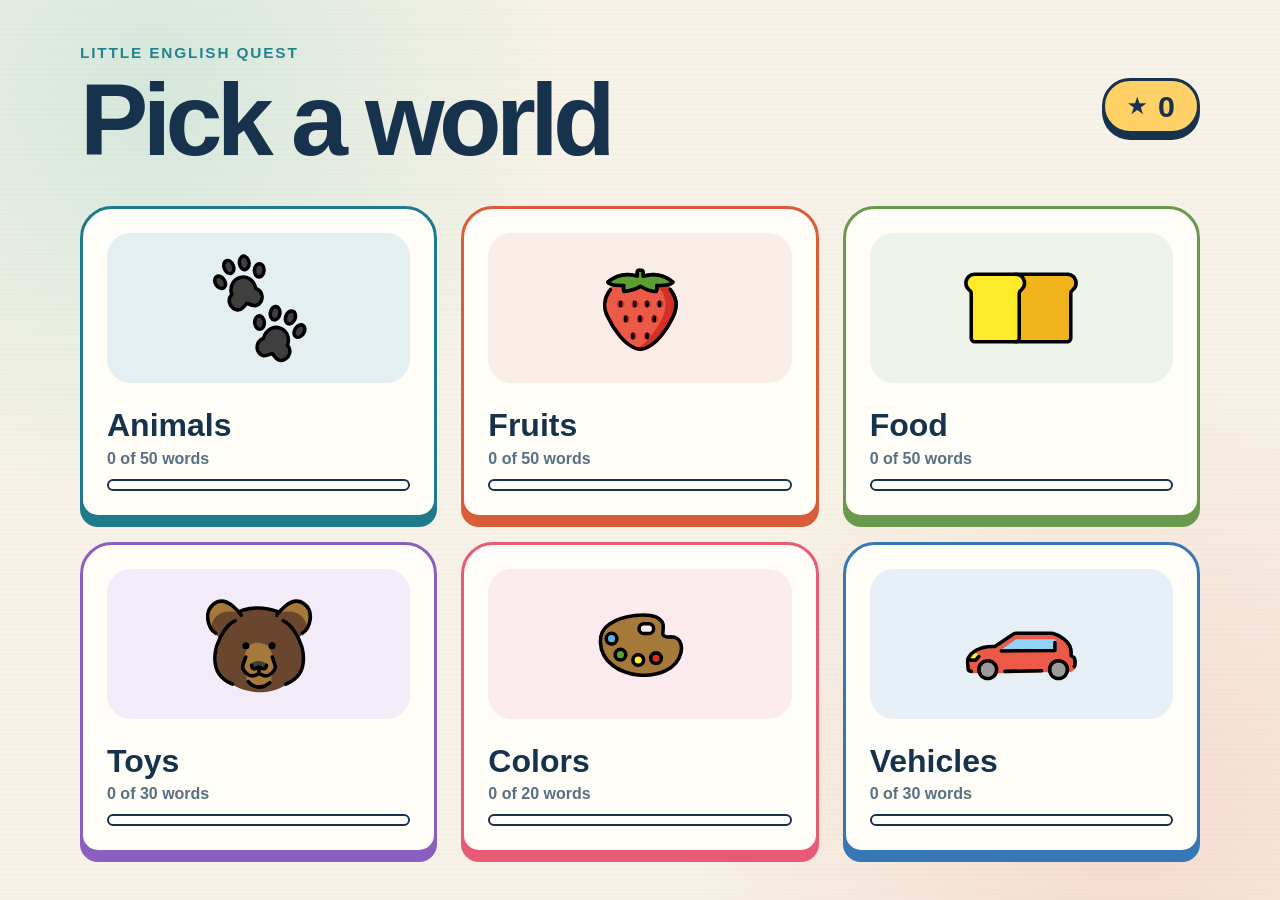
Test case: App flow › wakes the correct picture with a small magic reaction
Click the button "Animals 0 of 50 words": {"x": 259, "y": 362} [80,206,437,518]
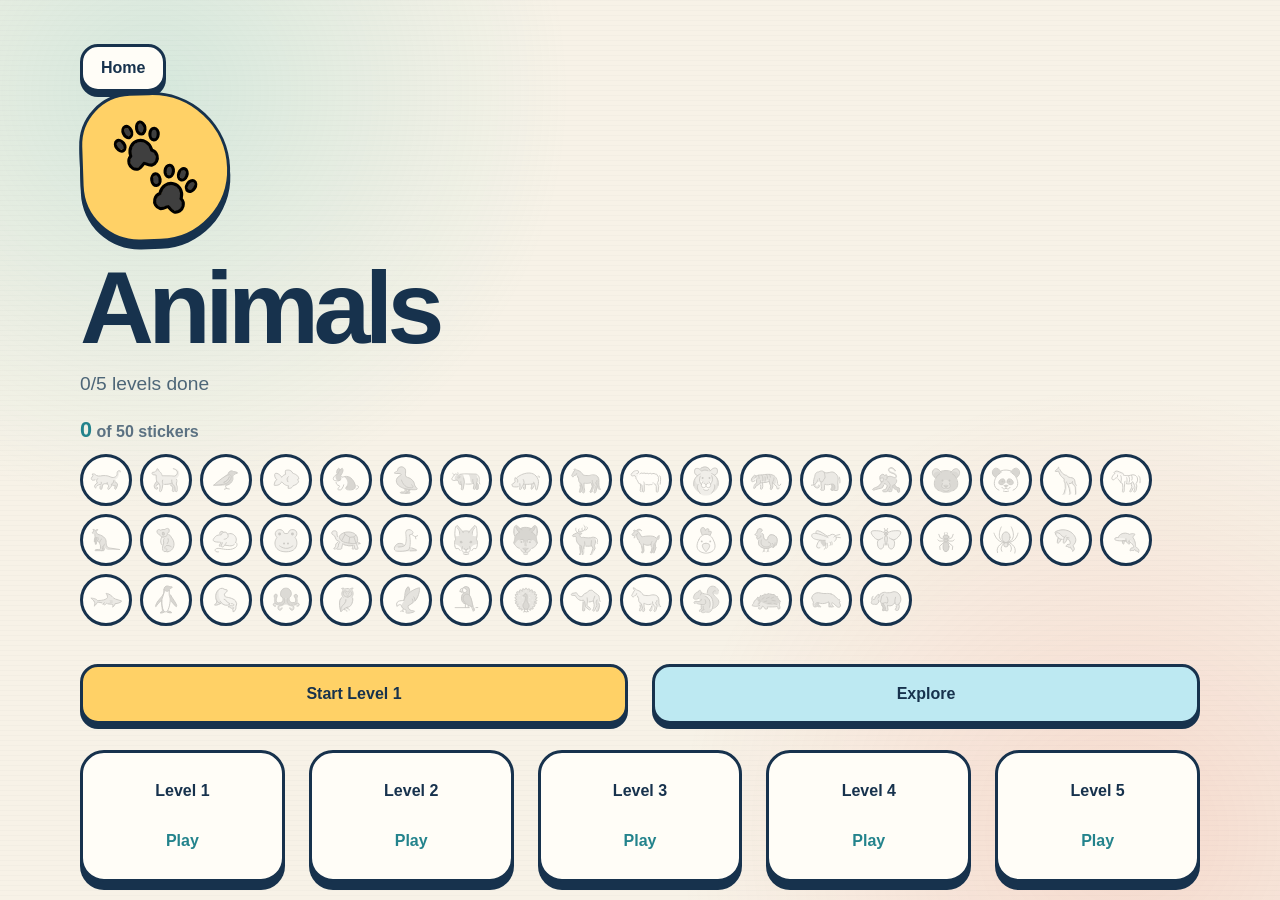
Click the button "Start Level 1": {"x": 354, "y": 694} [80,664,628,724]
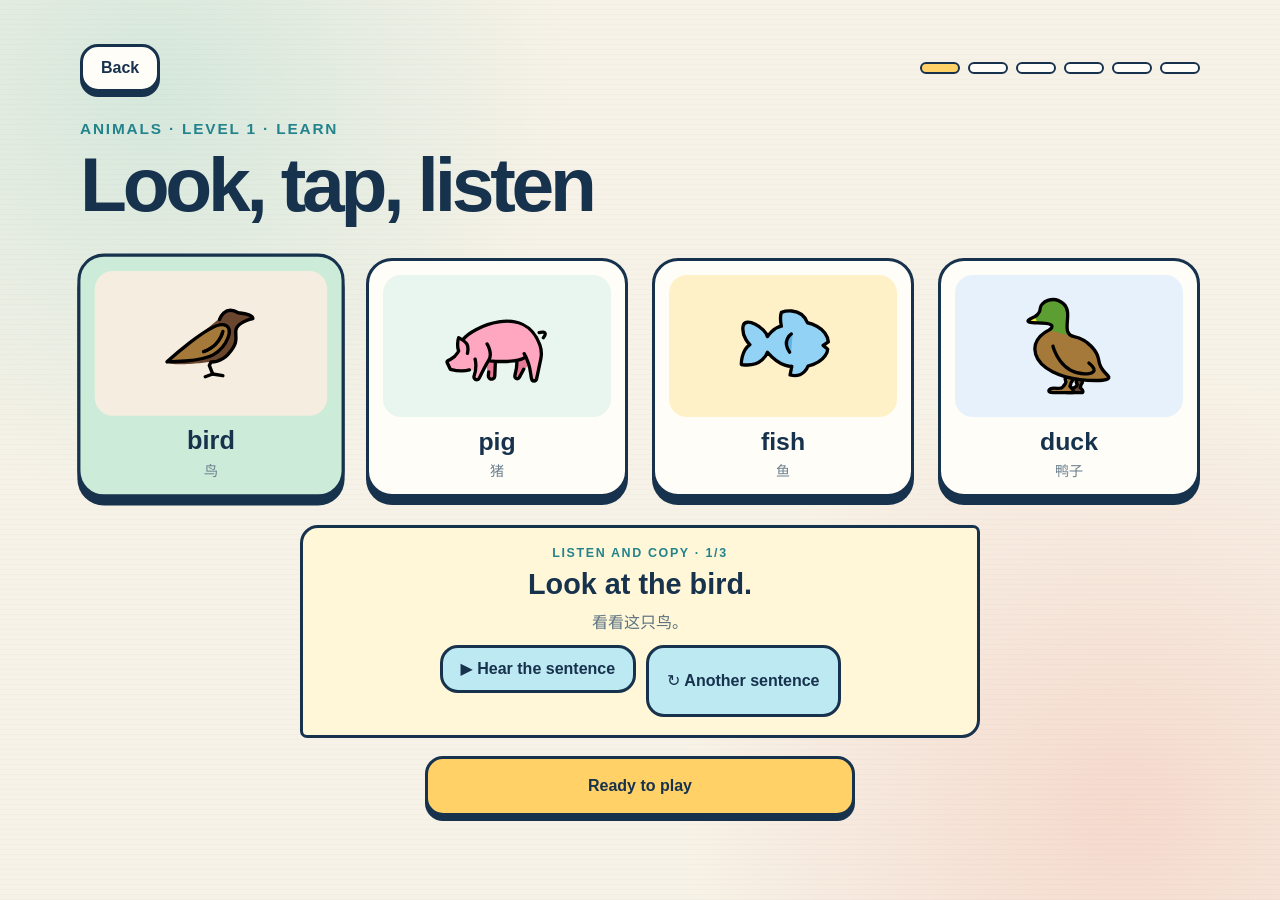
Click the button "Ready to play": {"x": 640, "y": 786} [425,756,855,816]
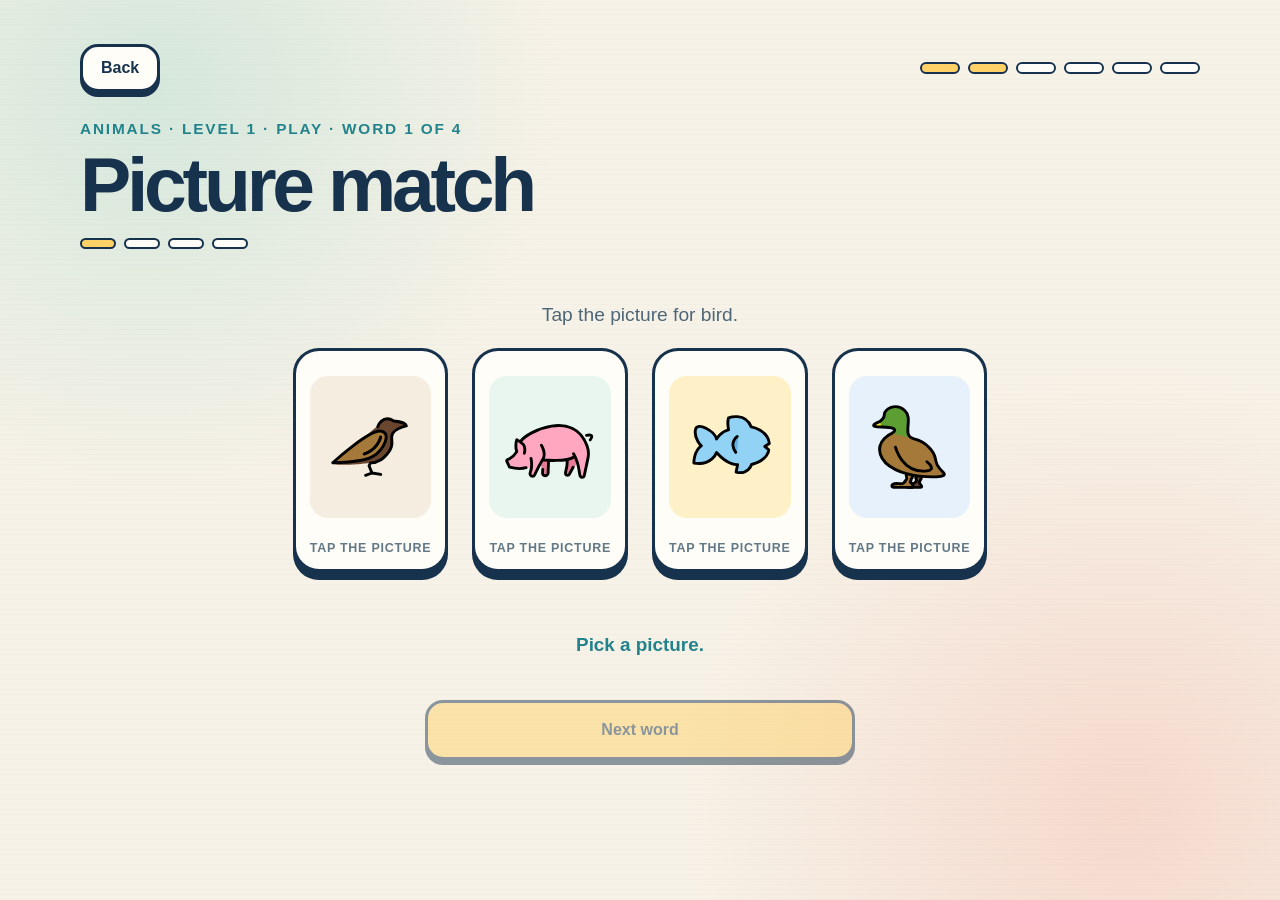
Click the 1st button "Tap the picture": {"x": 371, "y": 460} [293,348,448,572]
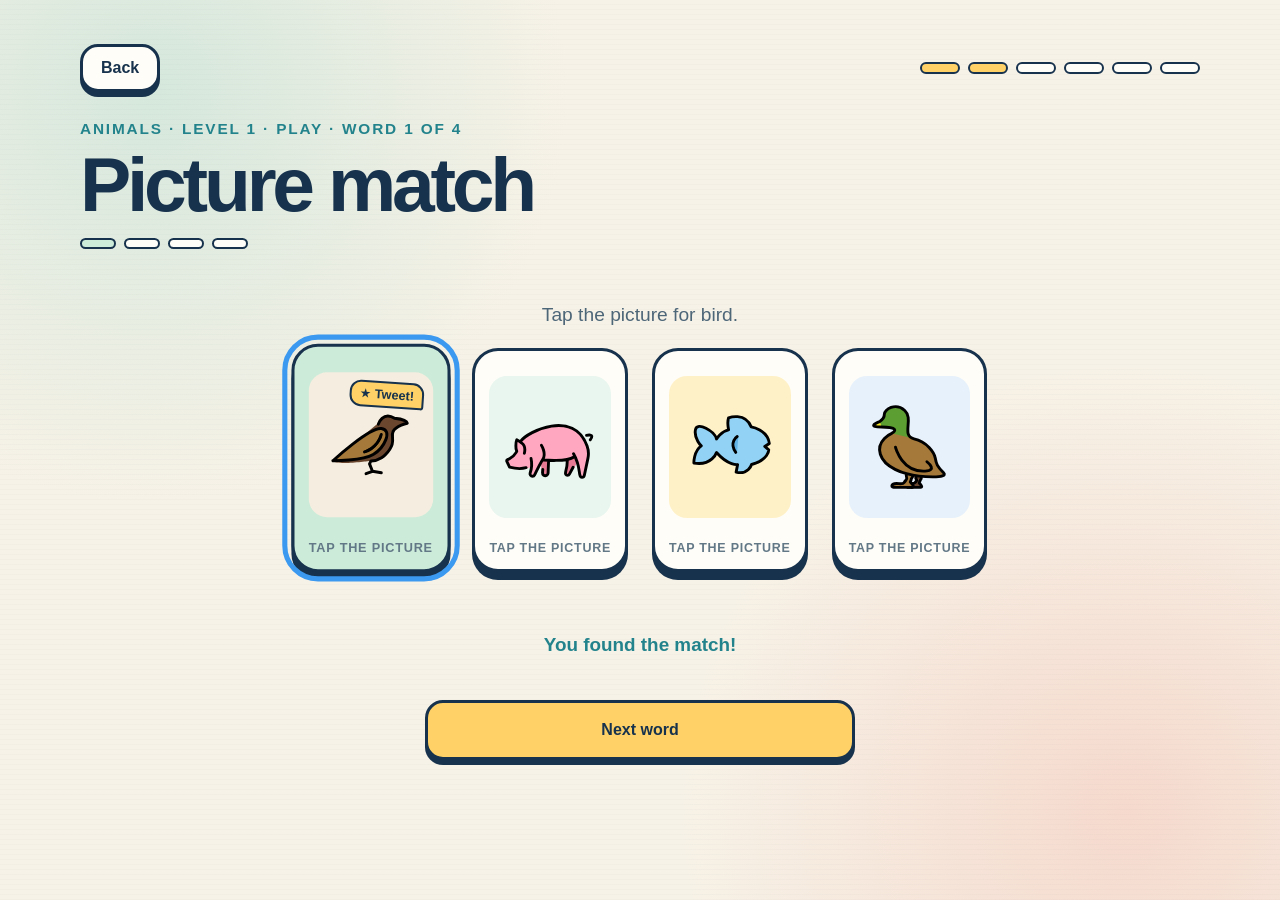
Check: the text "★ Tweet!" is shown, box [349,379,425,411]
